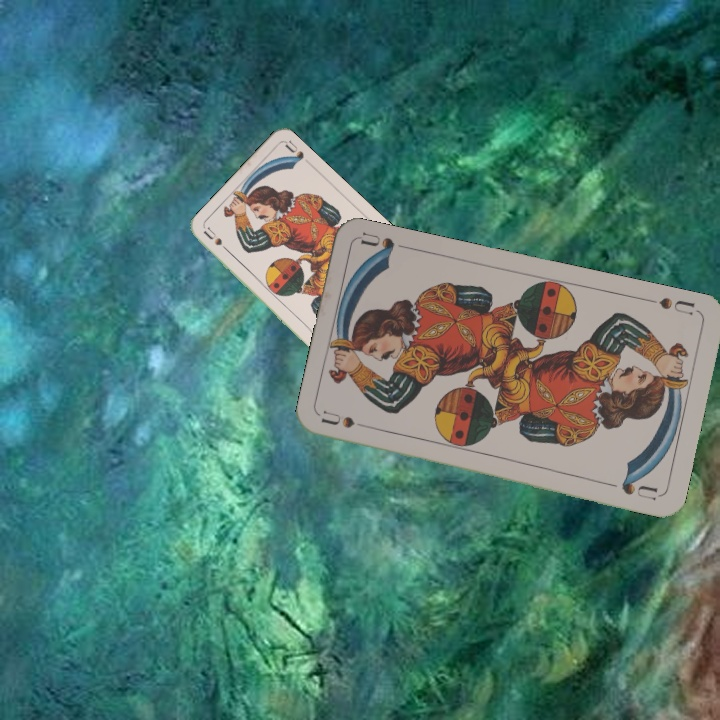SU: (318, 408, 377, 433), (642, 293, 700, 318), (200, 224, 234, 257)
